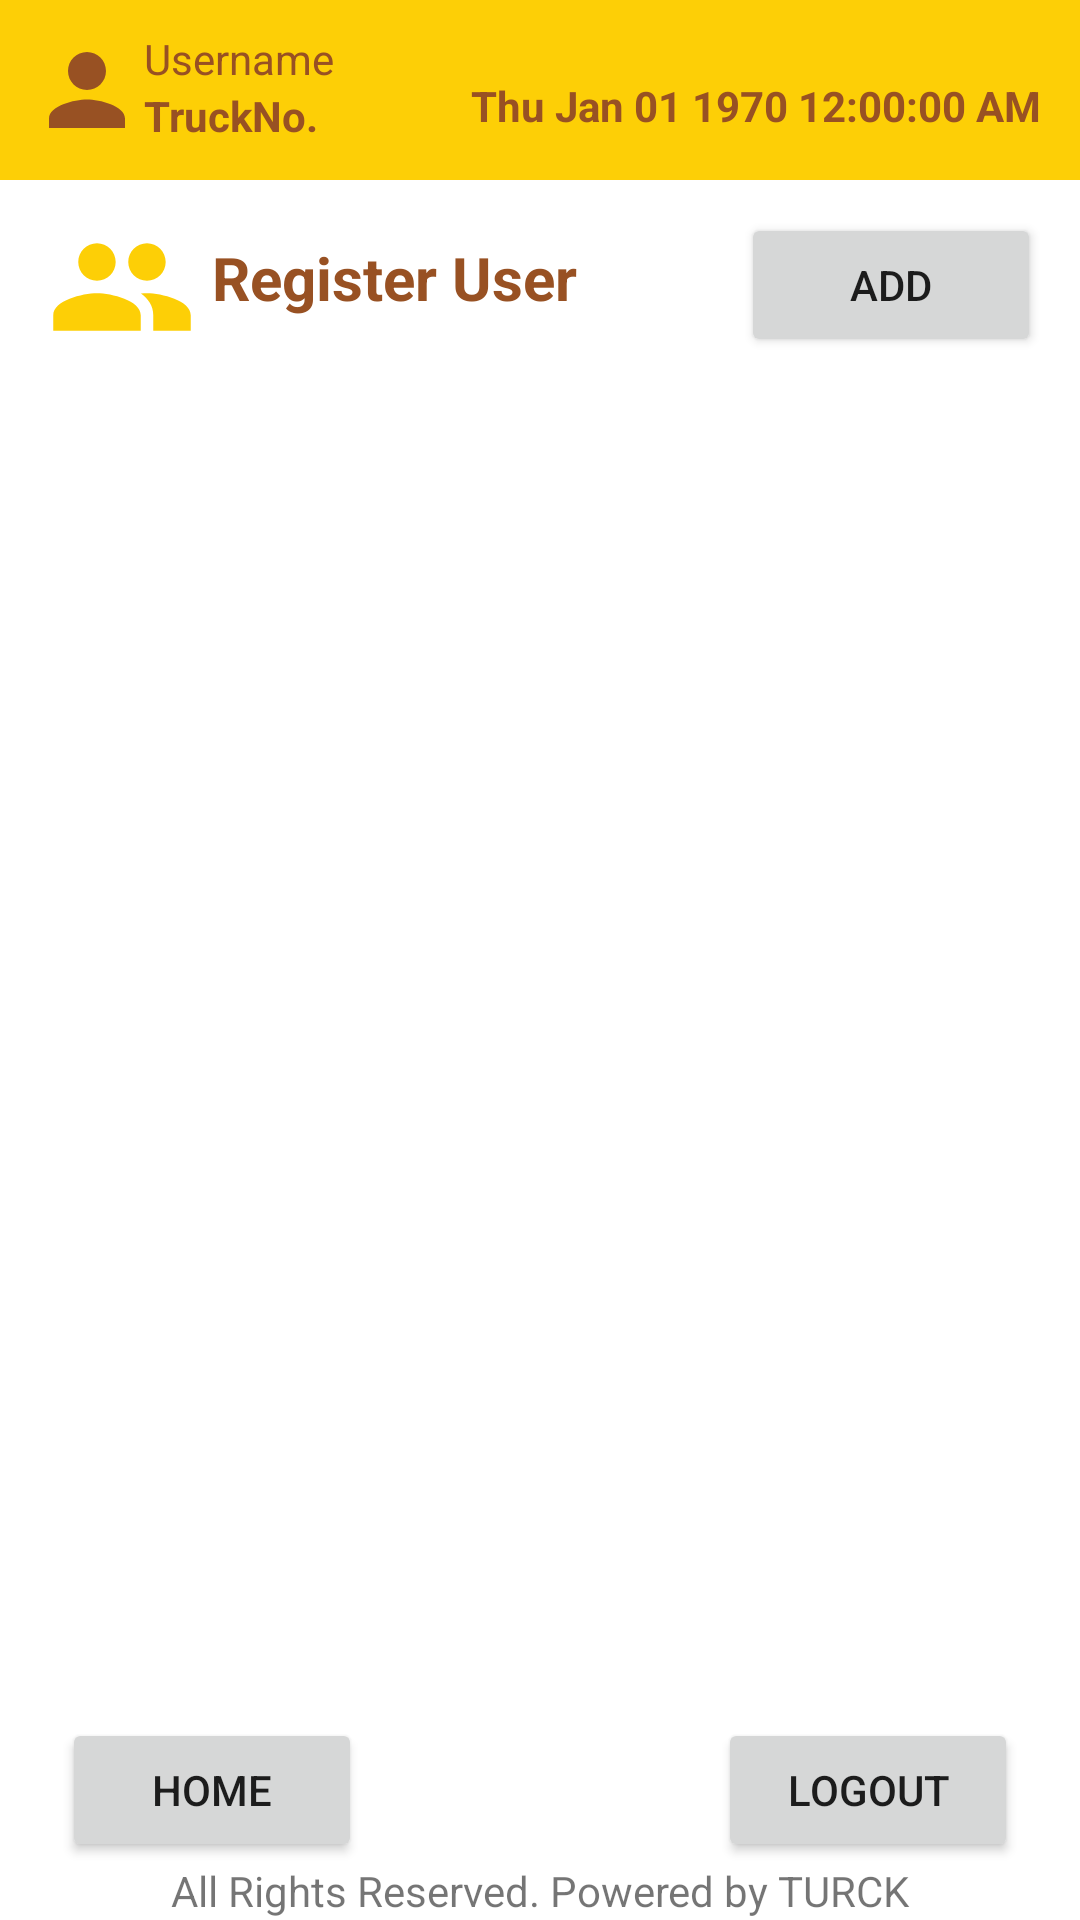

Locate icon controls on the screen. Image size 1080 x 1920, boxes as bbox=[x1, y1, x2, y2].
person: bbox=[49, 52, 125, 128]
